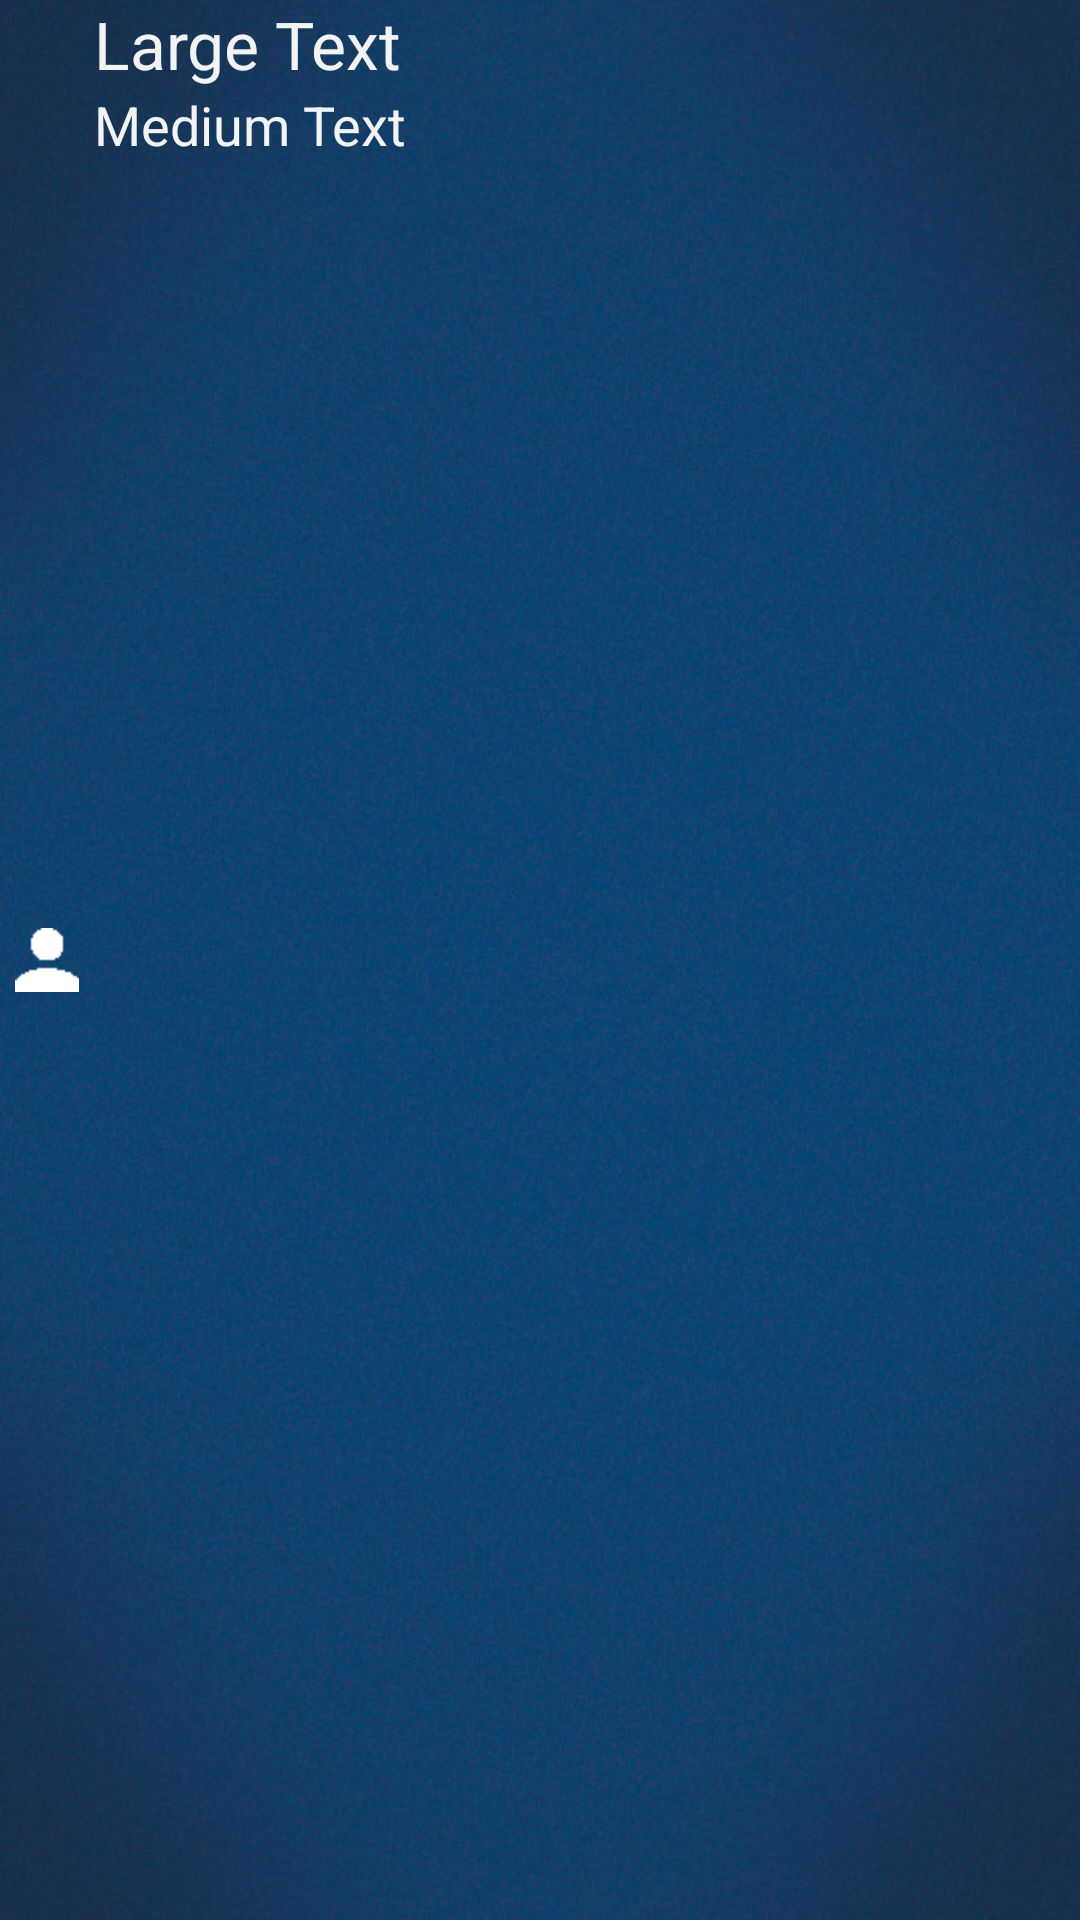

Icon click points for this 1080x1920 phone screenshot, format (x,y):
contractors: (47,960)
